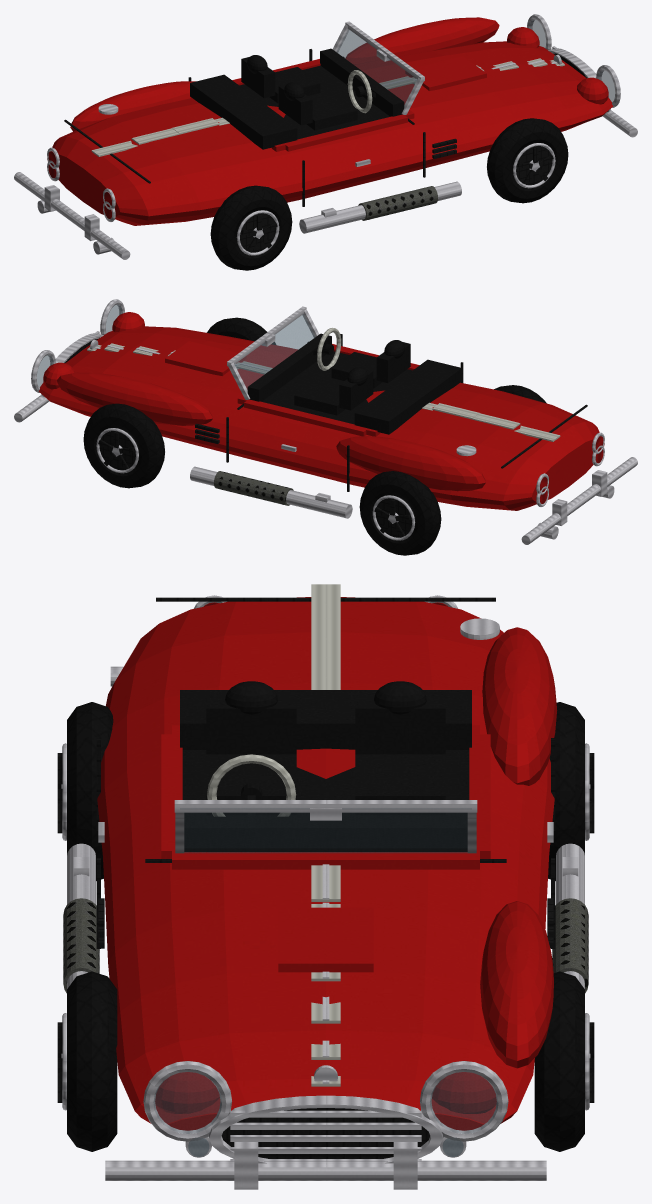
Rendered from Modle_RedRoadster.fbx.
The picture shows the model from 3 angles, top to bottom: view 1: azimuth 30°, elevation 25°; view 2: azimuth 150°, elevation 25°; view 3: azimuth 270°, elevation 25°; orthographic projection. The views are drawn at different scales.
Visible parts, largest first — view 1: GEO-Body, GEO-WheelRR_tire, GEO-WheelFR_tire, GEO-FoldedTop, GEO-FrontFenderL, GEO-RearFenderL, GEO-Windshield, GEO-CockpitWell, GEO-Dashboard, GEO-HoodScoop, GEO-SideShieldR, GEO-SidePipeR (+18 smaller); view 2: GEO-Body, GEO-RearFenderL, GEO-FrontFenderL, GEO-WheelFL_tire, GEO-WheelRL_tire, GEO-FoldedTop, GEO-Windshield, GEO-CockpitWell, GEO-Dashboard, GEO-HoodScoop, GEO-SideShieldL, GEO-SidePipeL (+21 smaller); view 3: GEO-Body, GEO-Windshield, GEO-Dashboard, GEO-FrontFenderL, GEO-RearFenderL, GEO-WheelFR_tire, GEO-FrontBumper, GEO-WheelFL_tire, GEO-FoldedTop, GEO-HoodScoop, GEO-CockpitSillF, GEO-WheelRR_tire (+35 smaller).
Boxes of the visible parts, x1,y1,x2,y2 form: GEO-Body: (47,41,613,225); GEO-WheelRR_tire: (210,185,292,270); GEO-WheelFR_tire: (487,118,568,203); GEO-FoldedTop: (190,74,297,149); GEO-FrontFenderL: (345,17,499,64); GEO-RearFenderL: (70,81,195,131); GEO-Windshield: (337,29,416,104); GEO-CockpitWell: (239,65,389,139); GEO-Dashboard: (320,48,404,116); GEO-HoodScoop: (405,56,486,90); GEO-SideShieldR: (358,186,437,220); GEO-SidePipeR: (299,181,461,233); GEO-Body: (38,326,604,510); GEO-RearFenderL: (336,436,485,491); GEO-FrontFenderL: (57,372,212,425); GEO-WheelFL_tire: (83,403,164,488); GEO-WheelRL_tire: (359,471,441,555); GEO-FoldedTop: (354,359,461,434); GEO-Windshield: (235,314,314,389); GEO-CockpitWell: (262,351,412,424); GEO-Dashboard: (247,333,331,401); GEO-HoodScoop: (165,341,246,375); GEO-SideShieldL: (214,471,293,505); GEO-SidePipeL: (190,466,352,518); GEO-Body: (97,597,554,1130); GEO-Windshield: (180,808,471,853); GEO-Dashboard: (184,816,467,851); GEO-FrontFenderL: (480,901,553,1068); GEO-RearFenderL: (482,627,557,785); GEO-WheelFR_tire: (67,971,117,1151); GEO-FrontBumper: (105,1160,546,1180); GEO-WheelFL_tire: (534,971,584,1151); GEO-FoldedTop: (180,690,471,749); GEO-HoodScoop: (278,907,373,972); GEO-CockpitSillF: (172,851,479,869); GEO-WheelRR_tire: (67,702,113,880).
Size of the model in its own units: 4.48 by 1.13 by 2.02.
